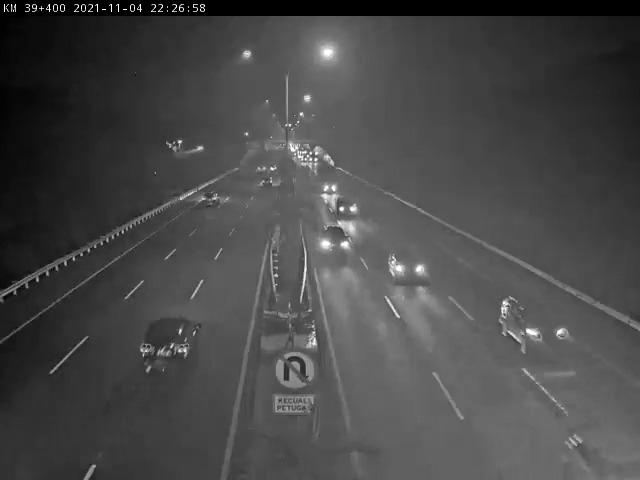car: (499, 293, 571, 356), (138, 319, 202, 373), (388, 249, 430, 282), (318, 226, 353, 258), (199, 190, 224, 210)
